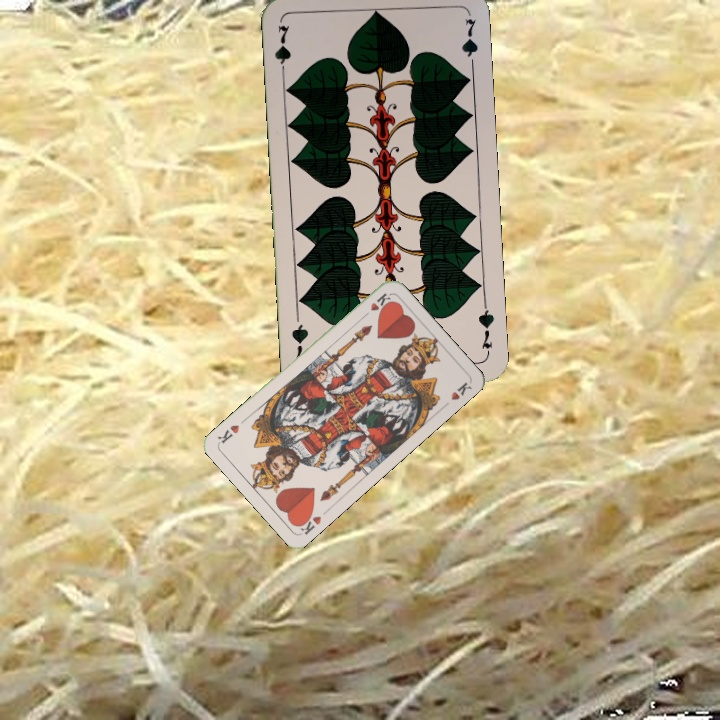G7: (271, 21, 294, 80), (474, 300, 497, 359)
HK: (358, 289, 394, 321), (293, 508, 324, 538)
